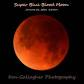moon: (12, 15, 69, 70)
